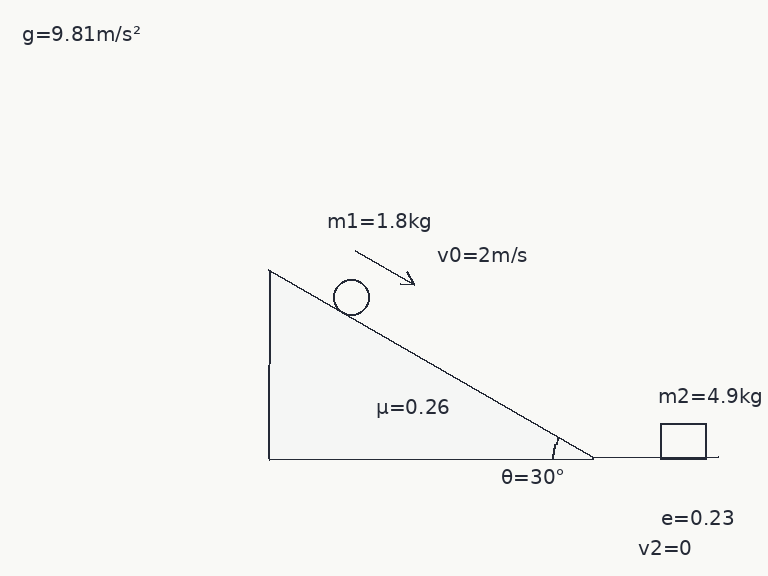ball: (331, 277, 371, 317)
block: (658, 422, 708, 460)
ramp: (266, 268, 595, 460)
